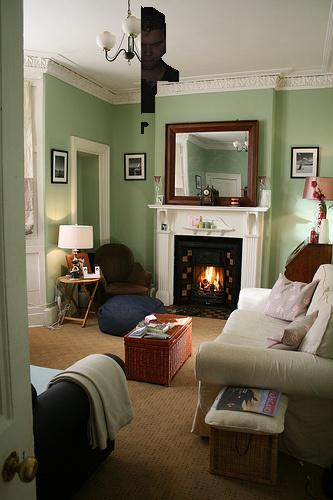tampered: (142, 7, 179, 134)
